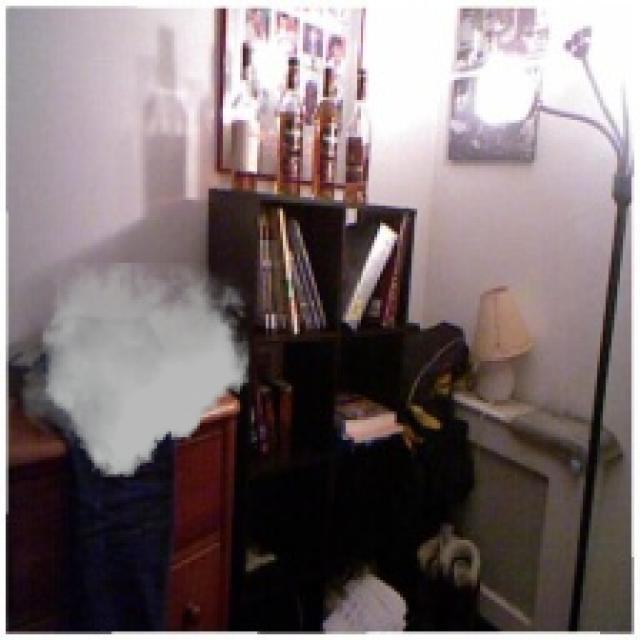Smoke: (14, 262, 254, 478)
